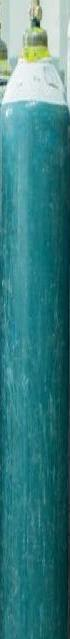cylinder: (0, 1, 70, 639)
